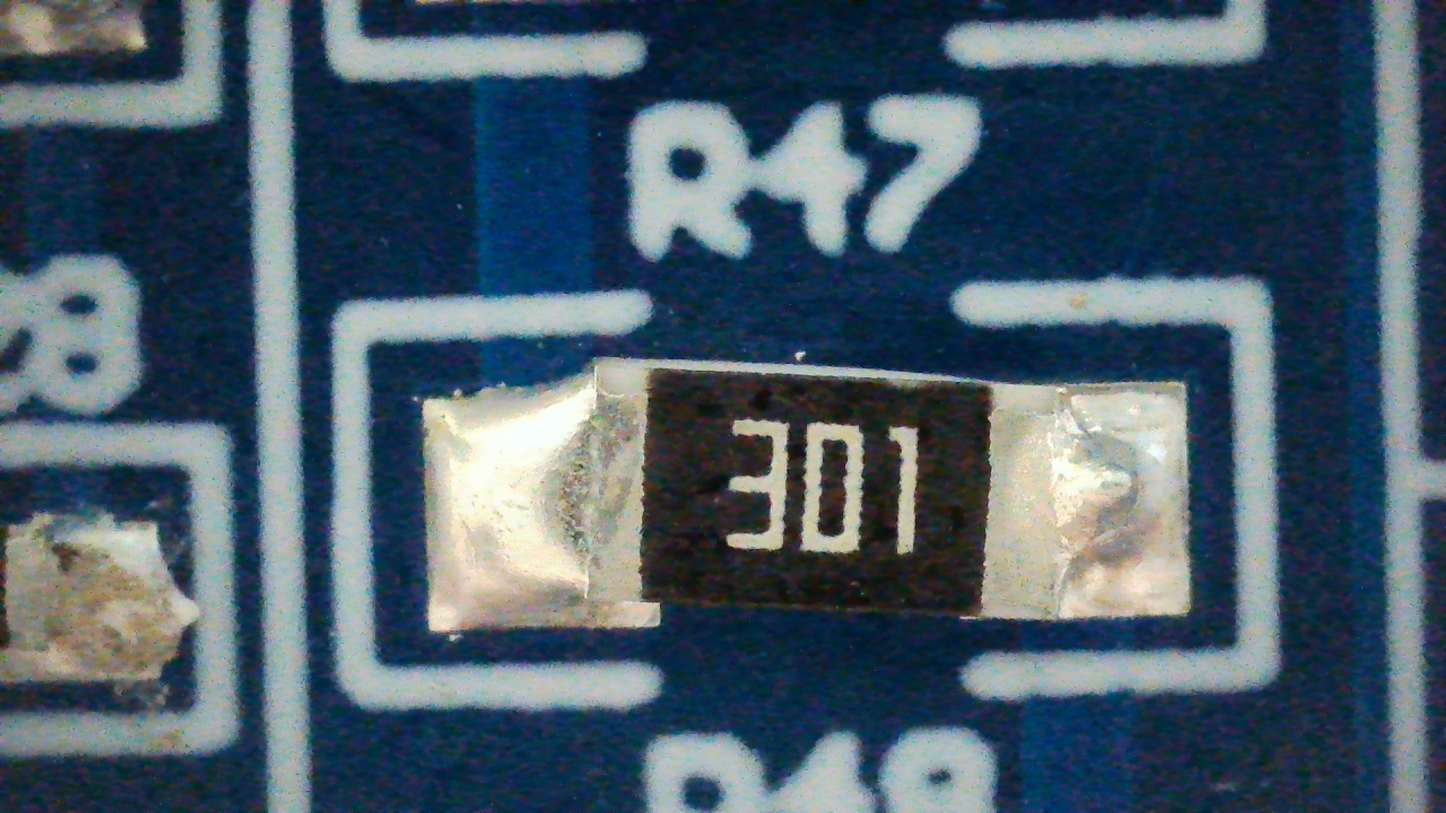NG: (423, 360, 1189, 630)
